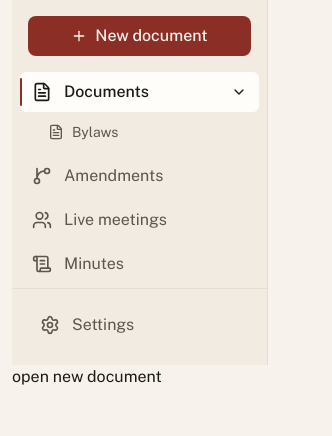
Sidebar › shows a document created after it loaded, once the app moves to it
Check: the text "Bylaws" is shown, box [72, 122, 118, 142]
What coordinates should you click on to do the following:
click the link "open new document"
I would click on:
 (87, 376)
Its box is [12, 367, 162, 386].
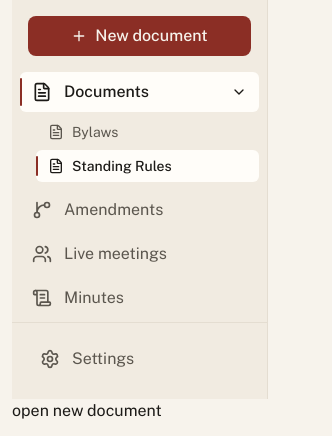
Check: the text "Standing Rules" is shown, box [72, 156, 172, 176]
